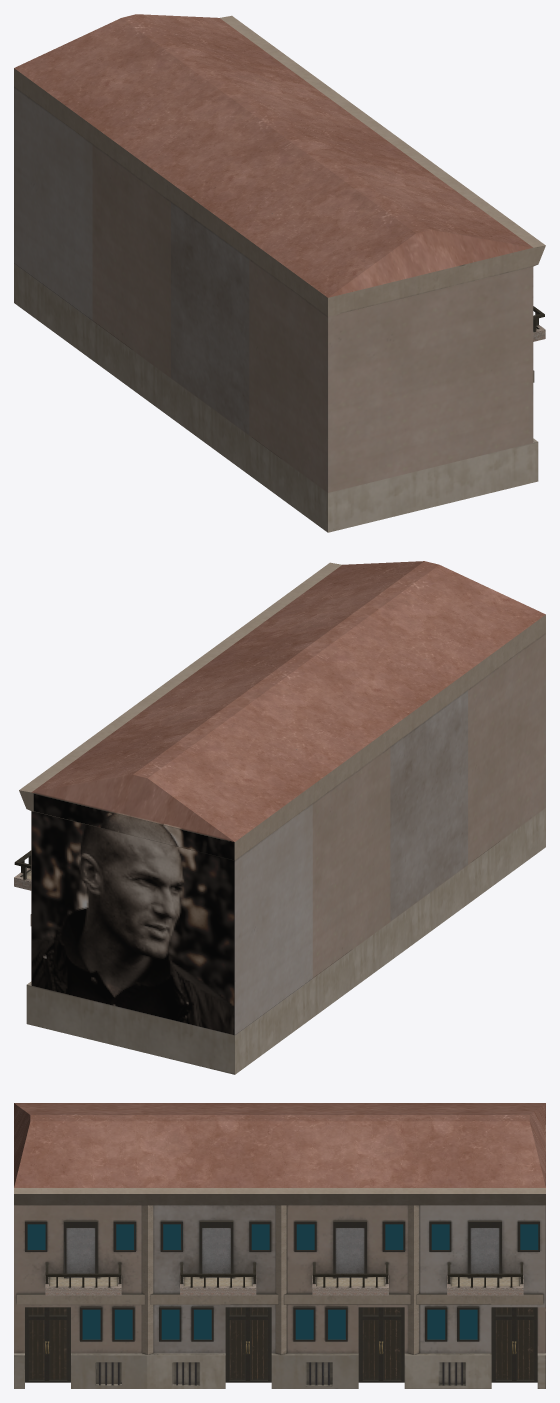
Rendered from Bat_Port_5.fbx.
The picture shows the model from 3 angles, top to bottom: view 1: azimuth 30°, elevation 25°; view 2: azimuth 150°, elevation 25°; view 3: azimuth 270°, elevation 25°; orthographic projection. The views are drawn at different scales.
Visible parts, largest first — view 1: Bat_Port_5; view 2: Bat_Port_5; view 3: Bat_Port_5.
Part boxes in pixels (x1,y1,x2,y2): Bat_Port_5: (14, 14, 545, 532); Bat_Port_5: (14, 561, 545, 1074); Bat_Port_5: (14, 1103, 545, 1388).
Bounding box in the file's own units: 1001 × 1087 × 2305.
